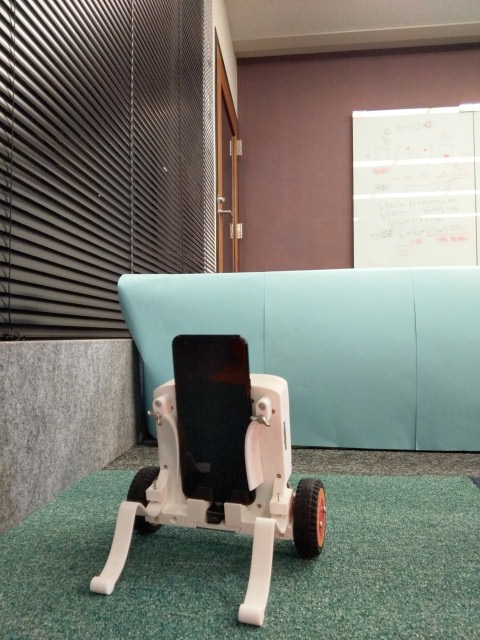f: (83, 329, 328, 635)
